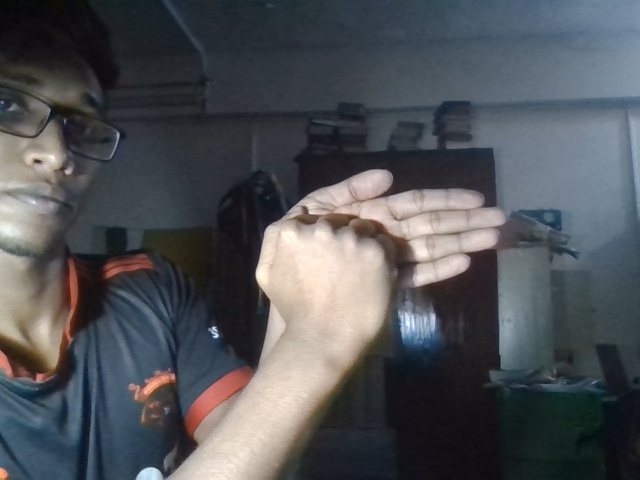b: (243, 168, 503, 350)
